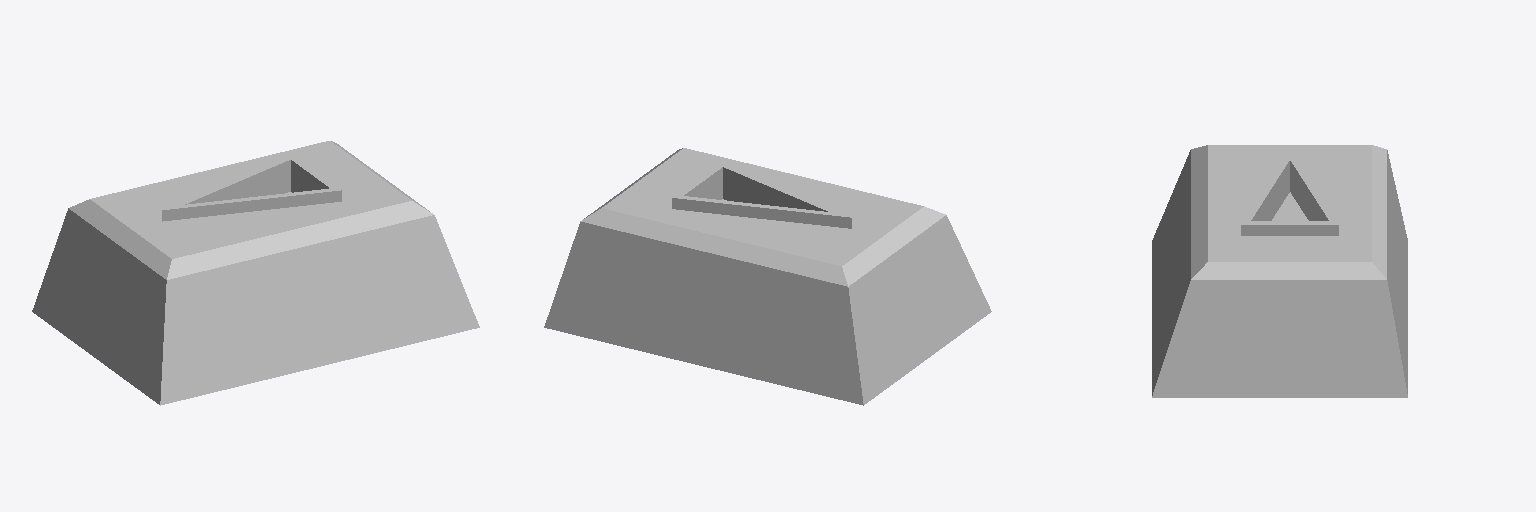
File: Button.obj
The picture shows the model from 3 angles: view 1: azimuth 30°, elevation 25°; view 2: azimuth 150°, elevation 25°; view 3: azimuth 270°, elevation 25°; orthographic projection.
Parts seen in each view (by area): view 1: KeyboardKey_0.1_2to1.001_Cube.027; view 2: KeyboardKey_0.1_2to1.001_Cube.027; view 3: KeyboardKey_0.1_2to1.001_Cube.027, KeyboardKey_0.1_2to1_Cube.012.
Boxes of the visible parts, x1,y1,x2,y2 form: KeyboardKey_0.1_2to1.001_Cube.027: [32, 141, 479, 405]; KeyboardKey_0.1_2to1.001_Cube.027: [544, 148, 991, 405]; KeyboardKey_0.1_2to1.001_Cube.027: [1152, 145, 1407, 397]; KeyboardKey_0.1_2to1_Cube.012: [1272, 192, 1308, 220].
Bounding box in the file's own units: 2.88 × 1.1 × 2.